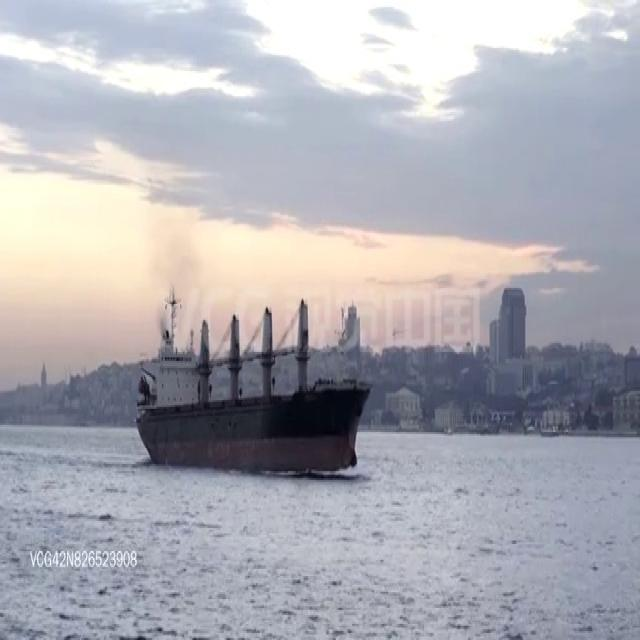cargoship: (137, 284, 366, 482)
